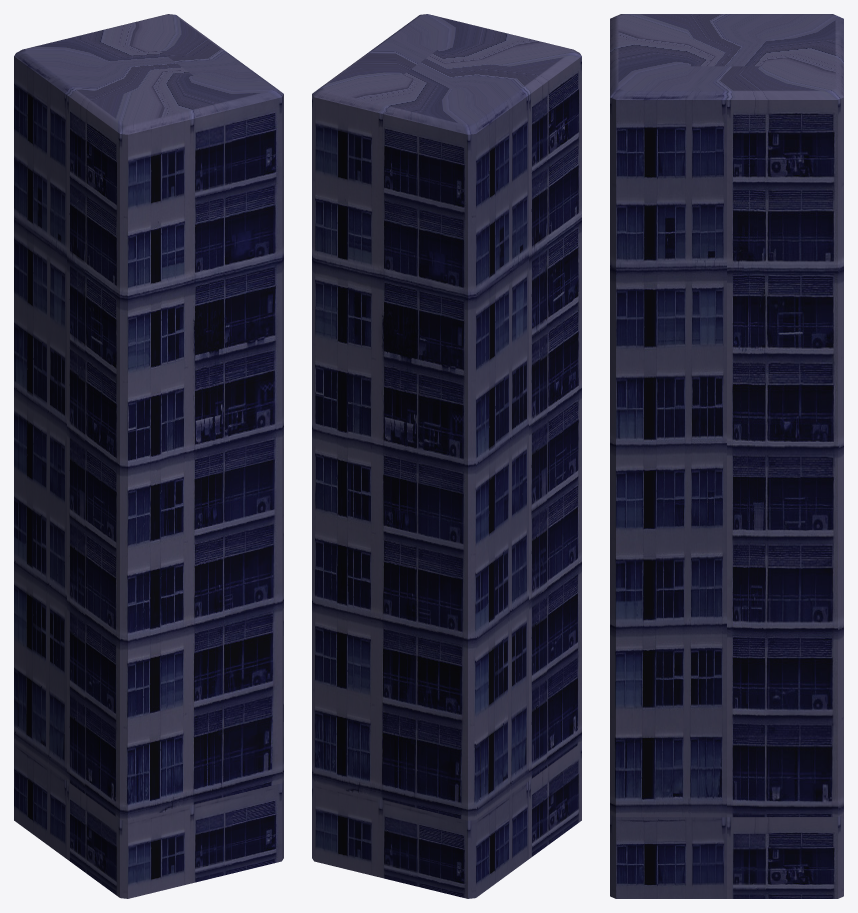
Rendered from building_v5_final.fbx.
3 renders of one model, left to right at view 1: azimuth 30°, elevation 25°; view 2: azimuth 150°, elevation 25°; view 3: azimuth 270°, elevation 25°, orthographic. The views are drawn at different scales.
Parts seen in each view (by area): view 1: building_v5:pCube1; view 2: building_v5:pCube1; view 3: building_v5:pCube1.
Boxes of the visible parts, <box> form: building_v5:pCube1: <box>14,14,283,898</box>; building_v5:pCube1: <box>312,14,581,898</box>; building_v5:pCube1: <box>610,14,843,898</box>.
Size of the model in its own units: 101 by 451 by 119.
